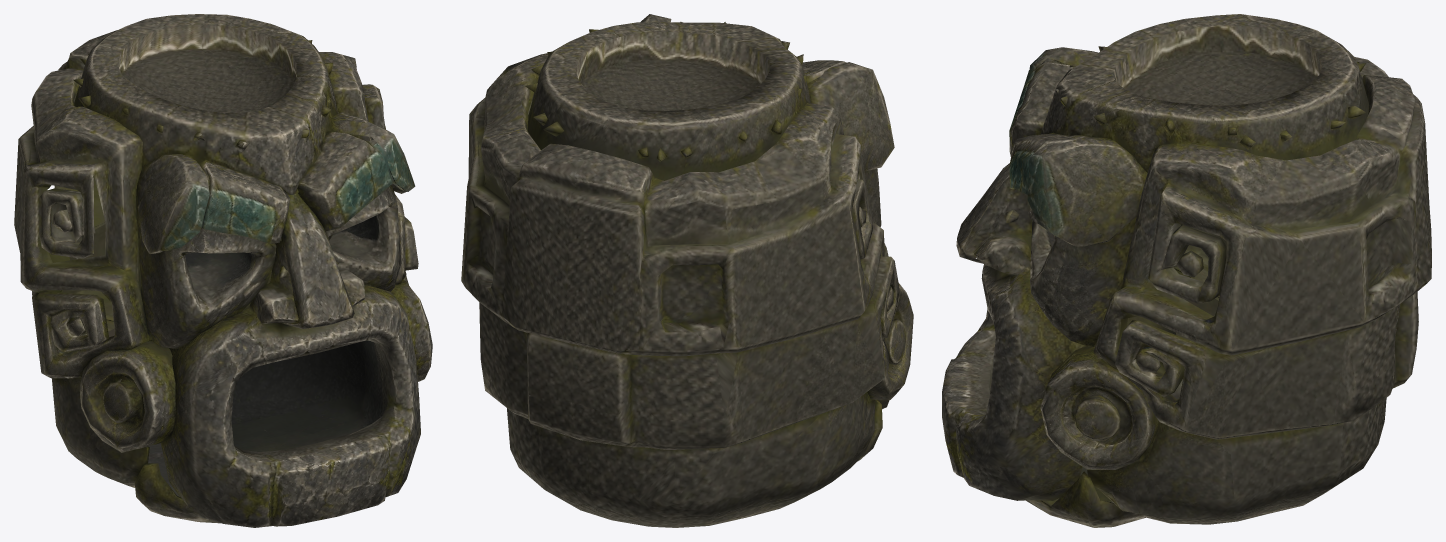
File: tiki-head.glb
The picture shows the model from 3 angles, left to right: view 1: azimuth 30°, elevation 25°; view 2: azimuth 150°, elevation 25°; view 3: azimuth 270°, elevation 25°; orthographic projection. The views are drawn at different scales.
Bounding box in the file's own units: 0.9153 × 0.9051 × 0.9978.
1 material, 1 textured.
